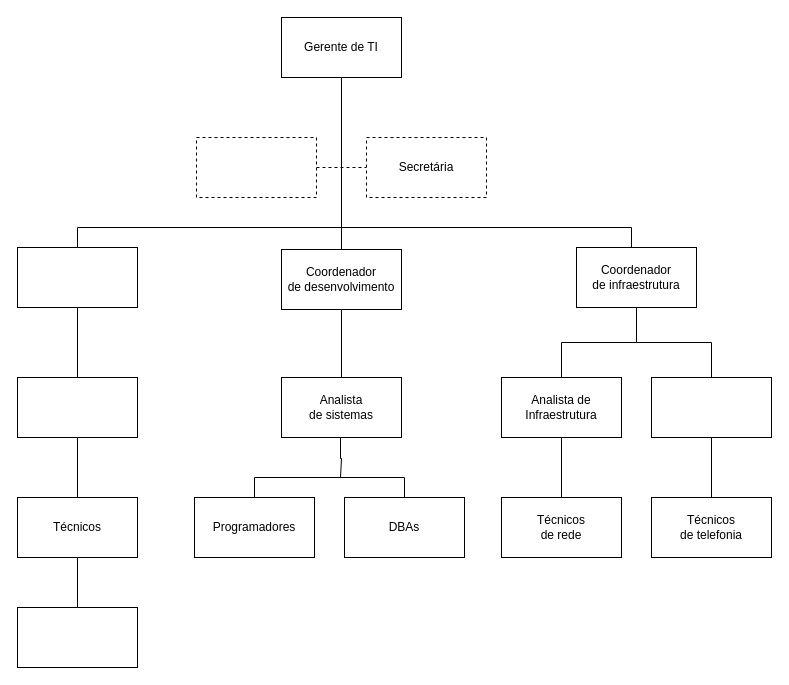
Some shapes in this 789 by 685 pixel diagram are drawn without their labels. The centre of each missing label's shape, as x and y in pixels:
"Analista de Suporte" goes at point 77,407.
"Analista de Telecom" goes at point 711,407.
"Atendentes" goes at point 77,637.
"Auditor" goes at point 256,167.
"Coordenador de Help Desk" goes at point 77,277.
